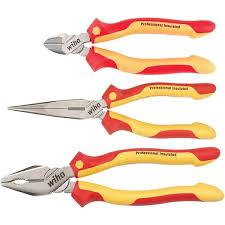pliers: (7, 81, 216, 139), (43, 16, 216, 75)
